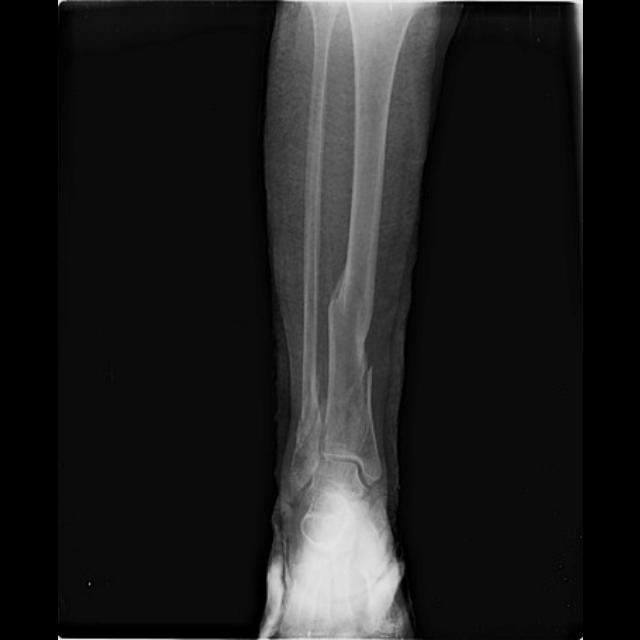Fracture: (326, 287, 374, 349), (327, 354, 374, 413), (291, 381, 321, 460)
